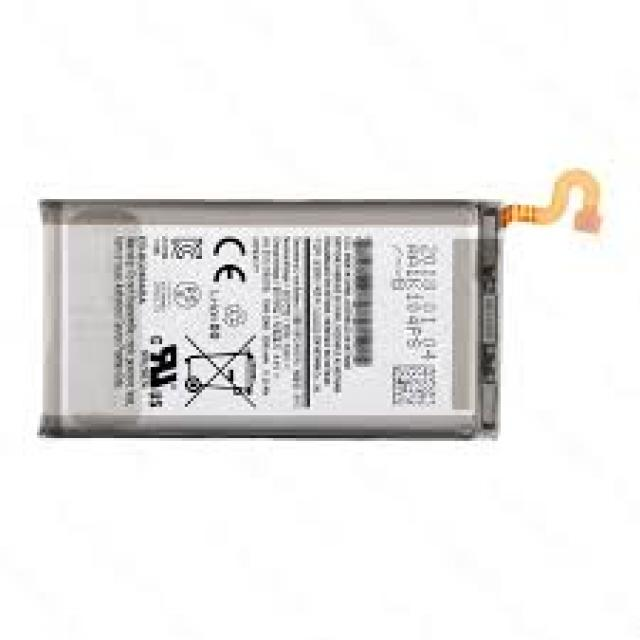non-organic waste: (33, 171, 605, 443)
